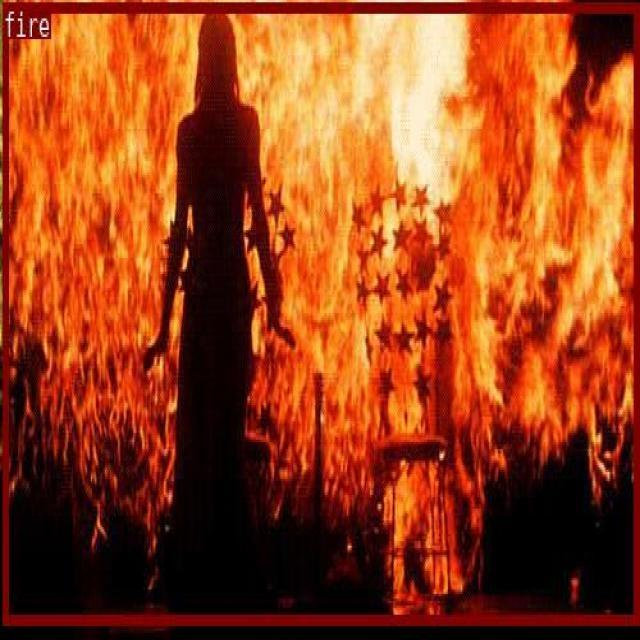fire: (2, 0, 637, 622)
